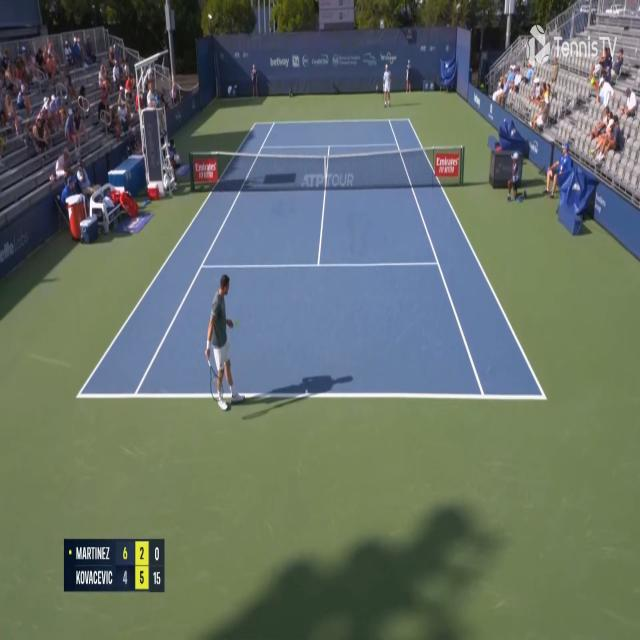tennis-player: (203, 271, 240, 416), (380, 61, 392, 108)
